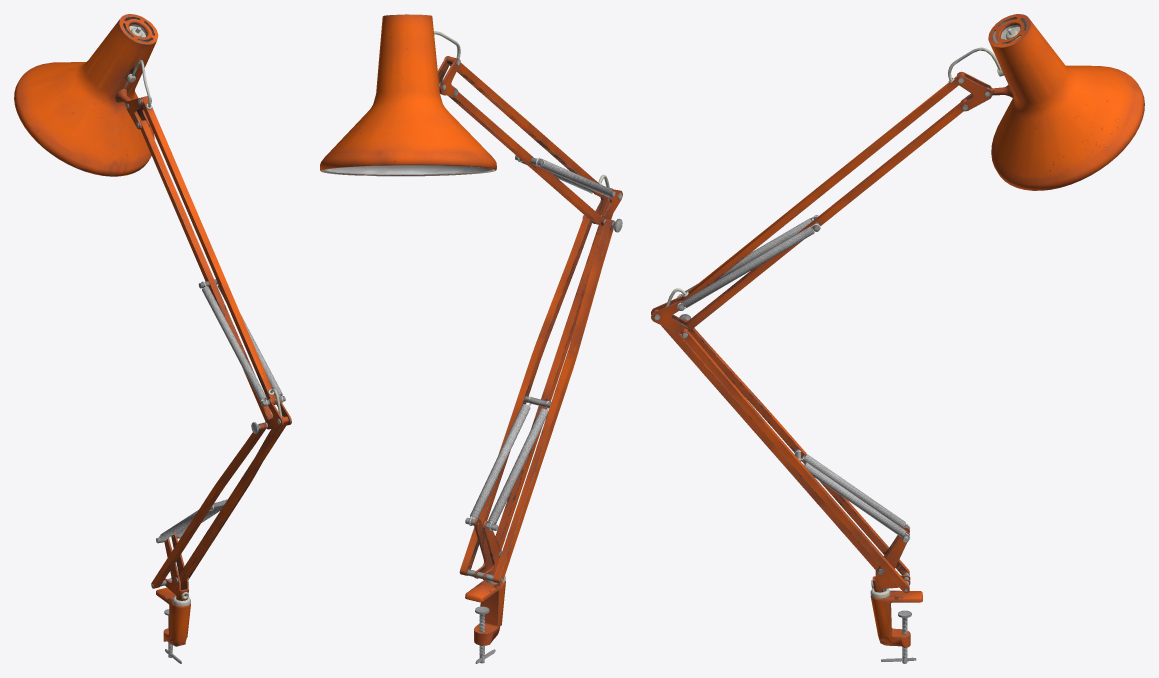
The model's file is desk_lamp_arm_01.glb.
3 views of the same model, side by side, from view 1: azimuth 30°, elevation 25°; view 2: azimuth 150°, elevation 25°; view 3: azimuth 270°, elevation 25° (orthographic). The views are drawn at different scales.
Visible parts, largest first — view 1: Box.001; view 2: Box.001; view 3: Box.001.
Boxes of the visible parts, x1,y1,x2,y2 form: Box.001: (14, 14, 291, 663); Box.001: (320, 14, 622, 663); Box.001: (651, 14, 1144, 663).
Bounding box in the file's own units: 0.2017 × 0.8926 × 0.6139.
Materials: 2 (2 with a texture image).
